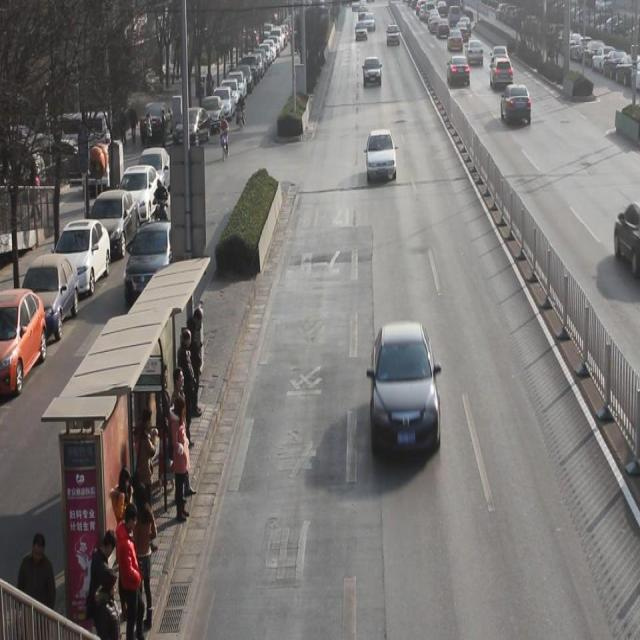car: (370, 322, 442, 461), (124, 222, 184, 309), (612, 197, 640, 265), (365, 129, 398, 185), (500, 85, 532, 126), (446, 54, 471, 89), (489, 58, 514, 90), (363, 56, 382, 90), (466, 39, 484, 69), (448, 29, 463, 55), (387, 24, 400, 48), (356, 22, 368, 44), (490, 46, 508, 58), (364, 14, 375, 32)
